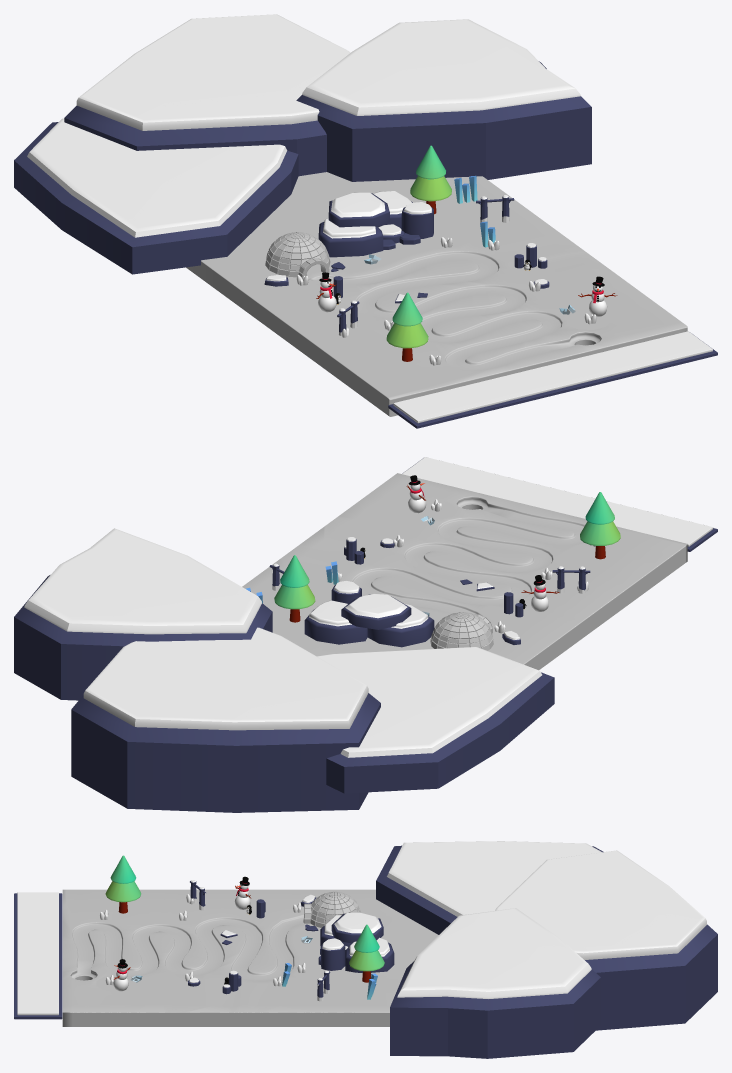
Rendered from snow_map.fbx.
3 renders of one model, top to bottom at view 1: azimuth 30°, elevation 25°; view 2: azimuth 150°, elevation 25°; view 3: azimuth 270°, elevation 25°, orthographic. The views are drawn at different scales.
Visible parts, largest first — view 1: rock1, ground, rock, base1, iglo, base2, tree, tree1, grass, crystal; view 2: rock1, ground, rock, base1, iglo, tree, tree1; view 3: rock1, ground, base1, rock, iglo, base2, tree, tree1, grass, snow_man, snow_man1.
Part boxes in pixels (left/top/right/bottom): rock1: left=14, top=14, right=591, bottom=274; ground: left=186, top=172, right=687, bottom=416; rock: left=264, top=191, right=549, bottom=335; base1: left=393, top=331, right=712, bottom=423; iglo: left=265, top=232, right=330, bottom=278; base2: left=388, top=334, right=717, bottom=428; tree: left=386, top=292, right=428, bottom=361; tree1: left=410, top=145, right=451, bottom=214; grass: left=296, top=237, right=596, bottom=365; crystal: left=454, top=175, right=495, bottom=247; rock1: left=14, top=528, right=554, bottom=812; ground: left=242, top=473, right=687, bottom=670; rock: left=269, top=537, right=590, bottom=647; base1: left=402, top=457, right=713, bottom=546; iglo: left=430, top=612, right=493, bottom=650; tree: left=580, top=492, right=620, bottom=559; tree1: left=274, top=555, right=315, bottom=622; rock1: left=376, top=841, right=717, bottom=1058; ground: left=62, top=889, right=438, bottom=1026; base1: left=17, top=892, right=58, bottom=1015; rock: left=188, top=880, right=394, bottom=1001; iglo: left=304, top=891, right=360, bottom=927; base2: left=14, top=893, right=62, bottom=1019; tree: left=105, top=855, right=141, bottom=913; tree1: left=349, top=924, right=384, bottom=982; grass: left=99, top=894, right=305, bottom=986; snow_man: left=234, top=876, right=251, bottom=909; snow_man1: left=113, top=959, right=130, bottom=991.
Size of the model in its own units: 2612 by 542 by 4016.
